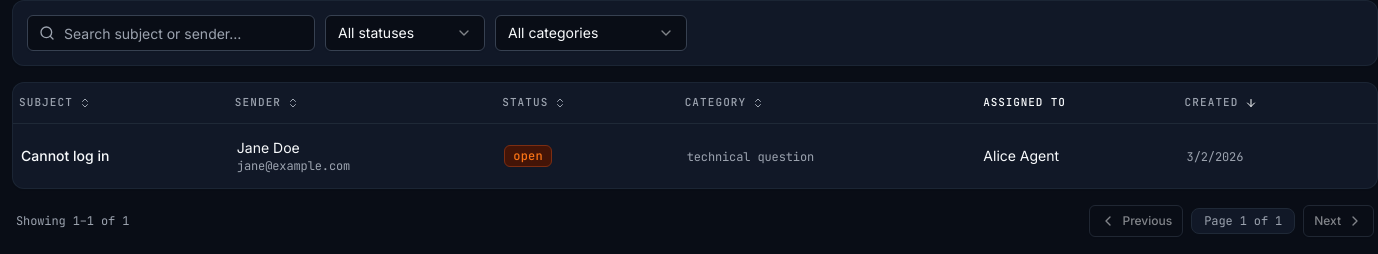
Test: TicketsTable › clears the search term along with the other filters
Check: the link "Cannot log in" is shown, box [21,146,109,164]
In the search field named "Search tickets": (171, 33) [27,15,315,51], type "refund"
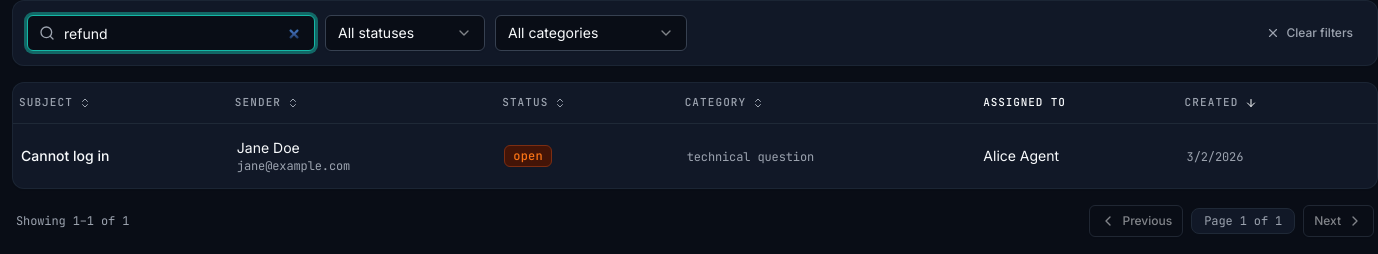
Click the button "Clear filters": (1310, 33) [1256,17,1363,49]
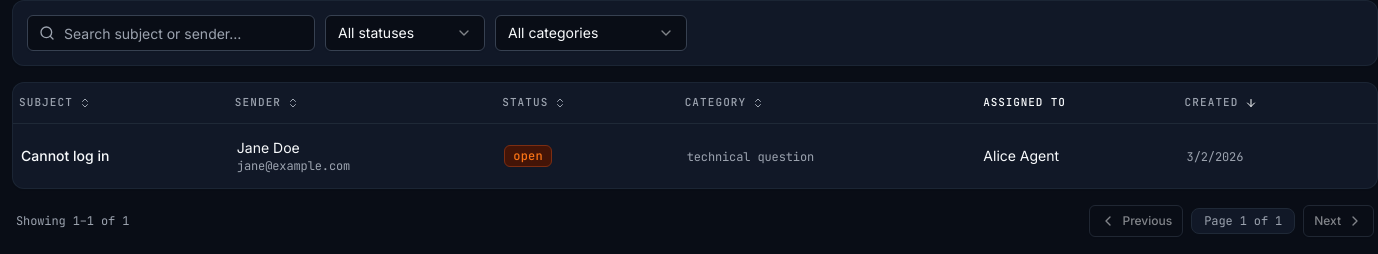
Check: the search field named "Search tickets" is empty, box [27,15,315,51]
